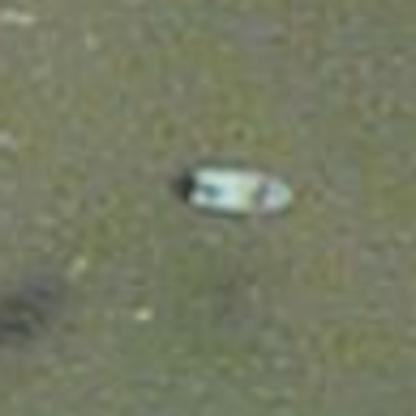ship: (162, 159, 302, 221)
